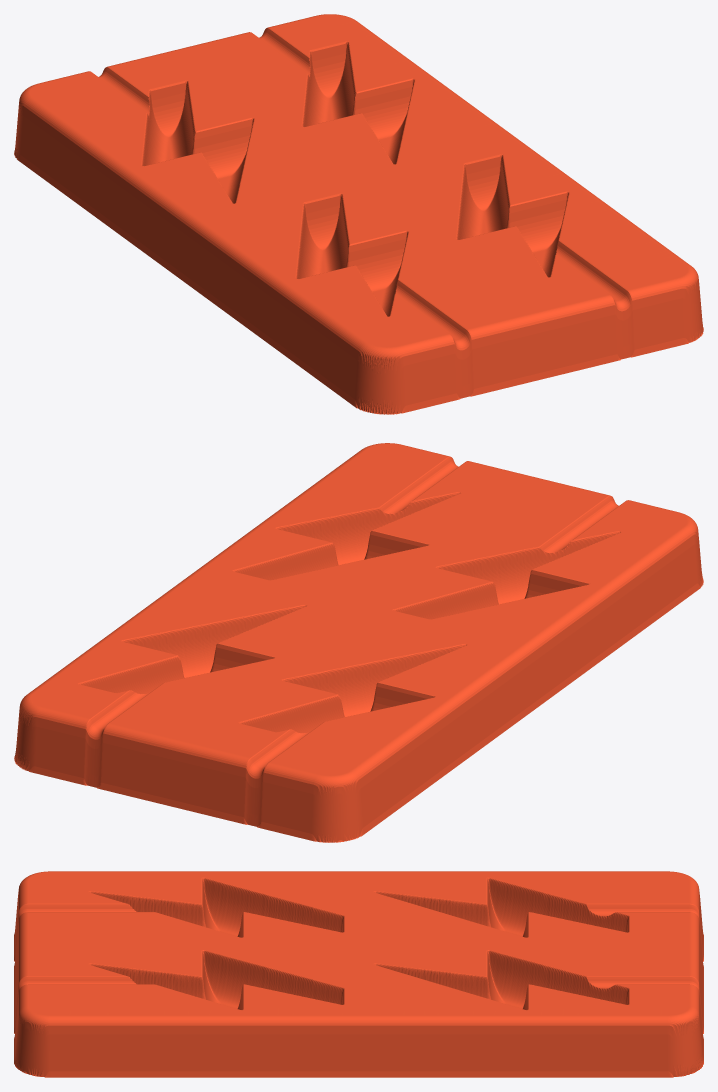
The model's file is mold.glb.
3 renders of one model, top to bottom at view 1: azimuth 30°, elevation 25°; view 2: azimuth 150°, elevation 25°; view 3: azimuth 270°, elevation 25°, orthographic. The views are drawn at different scales.
Parts seen in each view (by area): view 1: geometry_0; view 2: geometry_0; view 3: geometry_0.
Boxes of the visible parts, bbox=[...] form: geometry_0: bbox=[14, 14, 703, 414]; geometry_0: bbox=[14, 443, 703, 842]; geometry_0: bbox=[14, 871, 703, 1077].
Size of the model in its own units: 0.0924 by 0.0155 by 0.1735.
